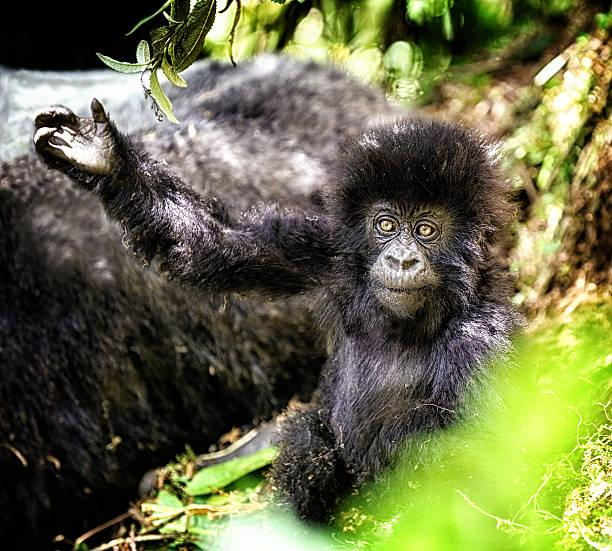goriile_montagne: (186, 99, 516, 452)
